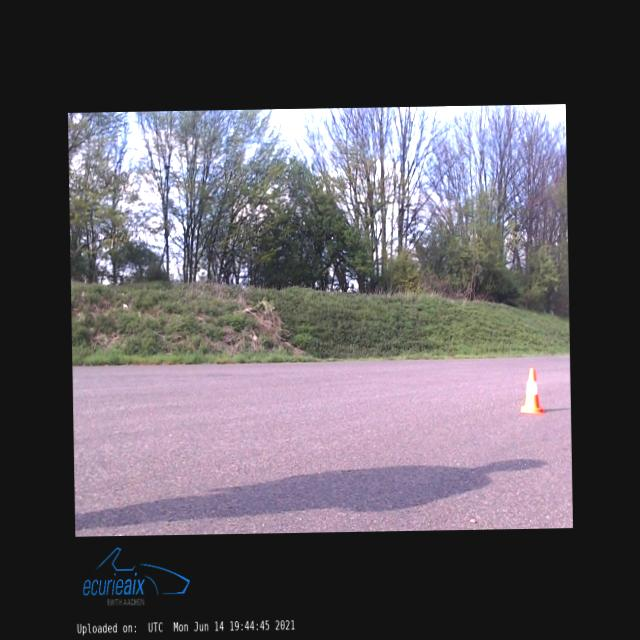orange_cone: (520, 368, 544, 414)
